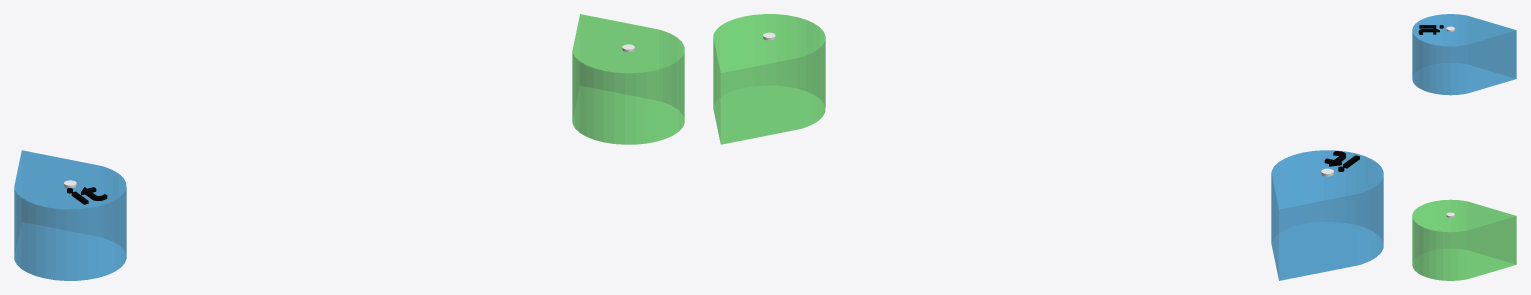
The model's file is ExportedBlenderFBXFile.fbx.
3 views of the same model, side by side, from view 1: azimuth 30°, elevation 25°; view 2: azimuth 150°, elevation 25°; view 3: azimuth 270°, elevation 25° (orthographic). The views are drawn at different scales.
Visible parts, largest first — view 1: MeHandle, ItHandle; view 2: ItHandle, MeHandle; view 3: ItHandle, MeHandle.
Part boxes in pixels (left/top/right/bottom): MeHandle: left=572, top=14, right=684, bottom=144; ItHandle: left=14, top=150, right=126, bottom=280; ItHandle: left=1271, top=150, right=1383, bottom=280; MeHandle: left=713, top=14, right=825, bottom=144; ItHandle: left=1412, top=14, right=1516, bottom=95; MeHandle: left=1412, top=199, right=1516, bottom=280.
Size of the model in its own units: 13.44 by 1.46 by 2.72.
